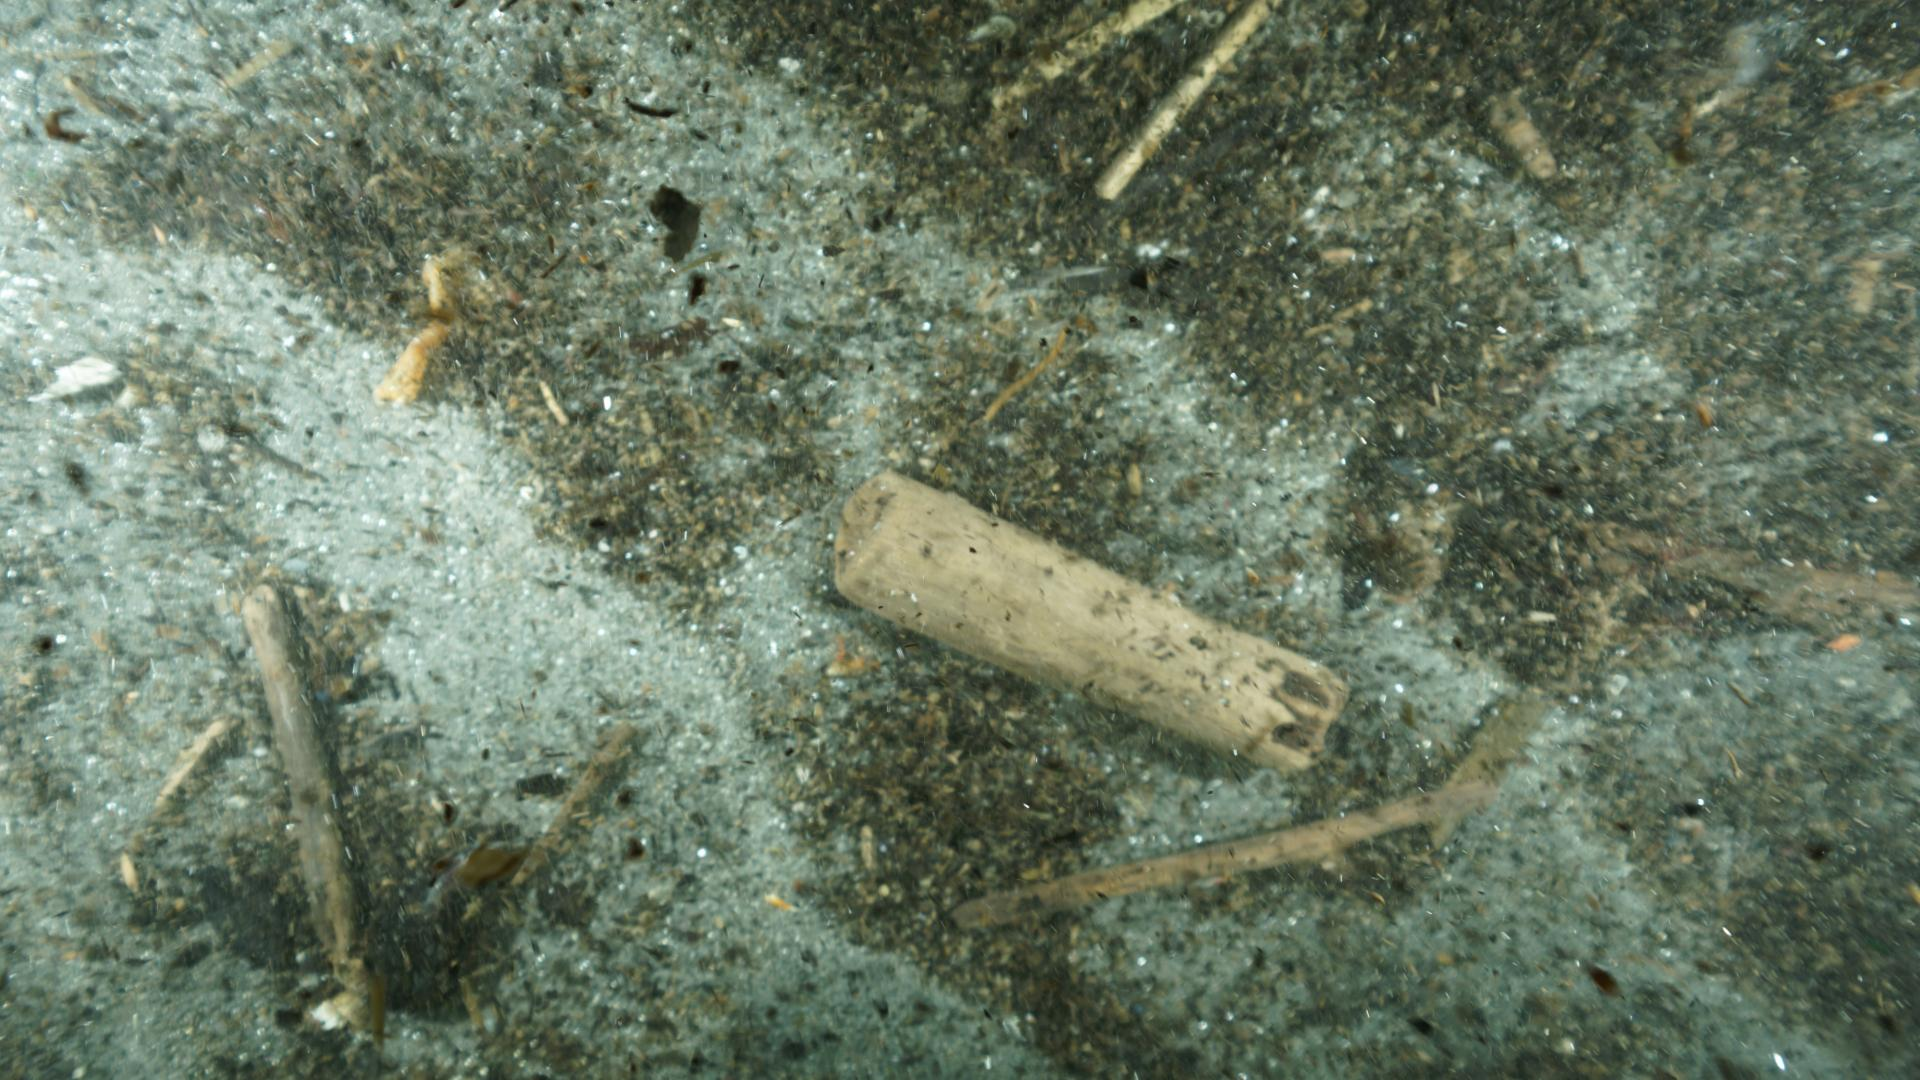wood: (957, 527, 1920, 936), (828, 463, 1348, 782), (243, 585, 359, 952)
